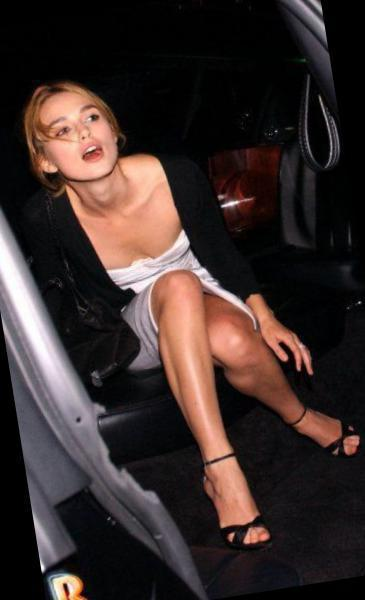Drunk: (42, 94, 120, 177)
